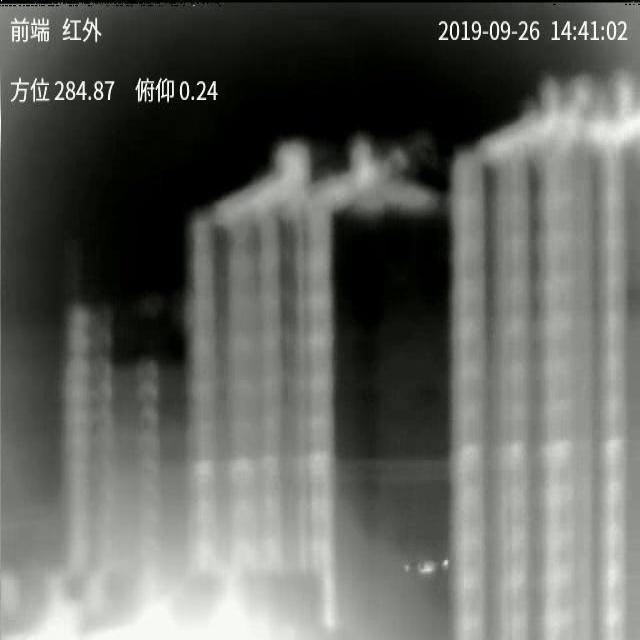drone: (402, 559, 450, 575)
